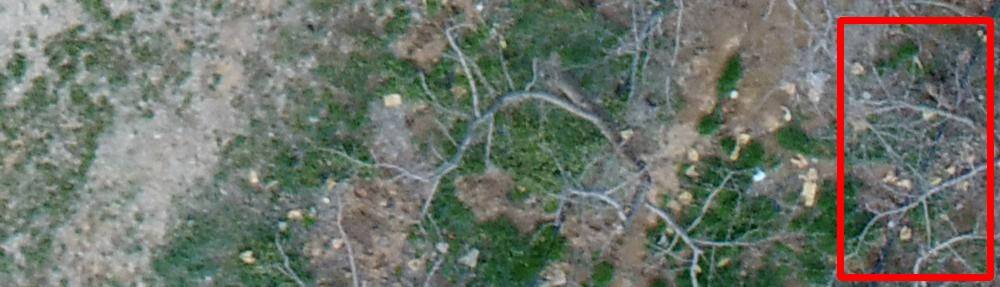apple: (840, 20, 990, 277)
